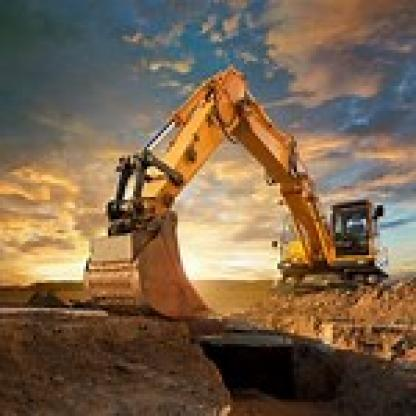excavator: (83, 50, 413, 341)
